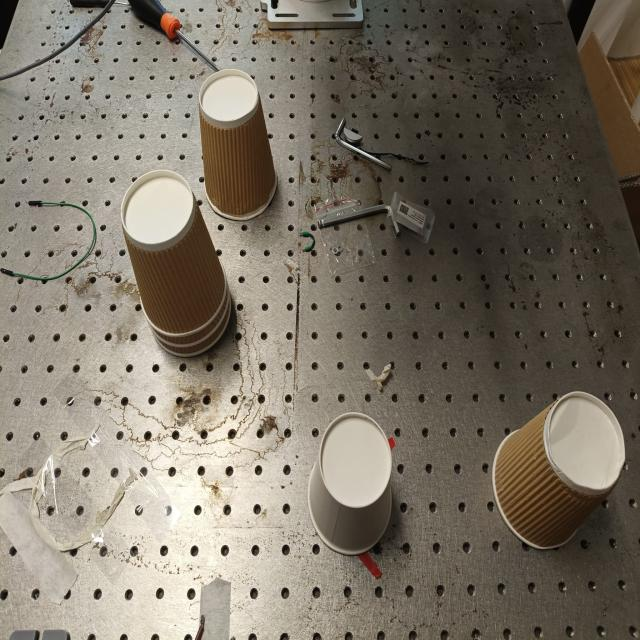Browncup: (492, 391, 625, 548), (121, 170, 228, 337), (156, 302, 230, 354), (199, 69, 259, 128), (154, 302, 226, 344)
Whitecup: (308, 412, 392, 555)
